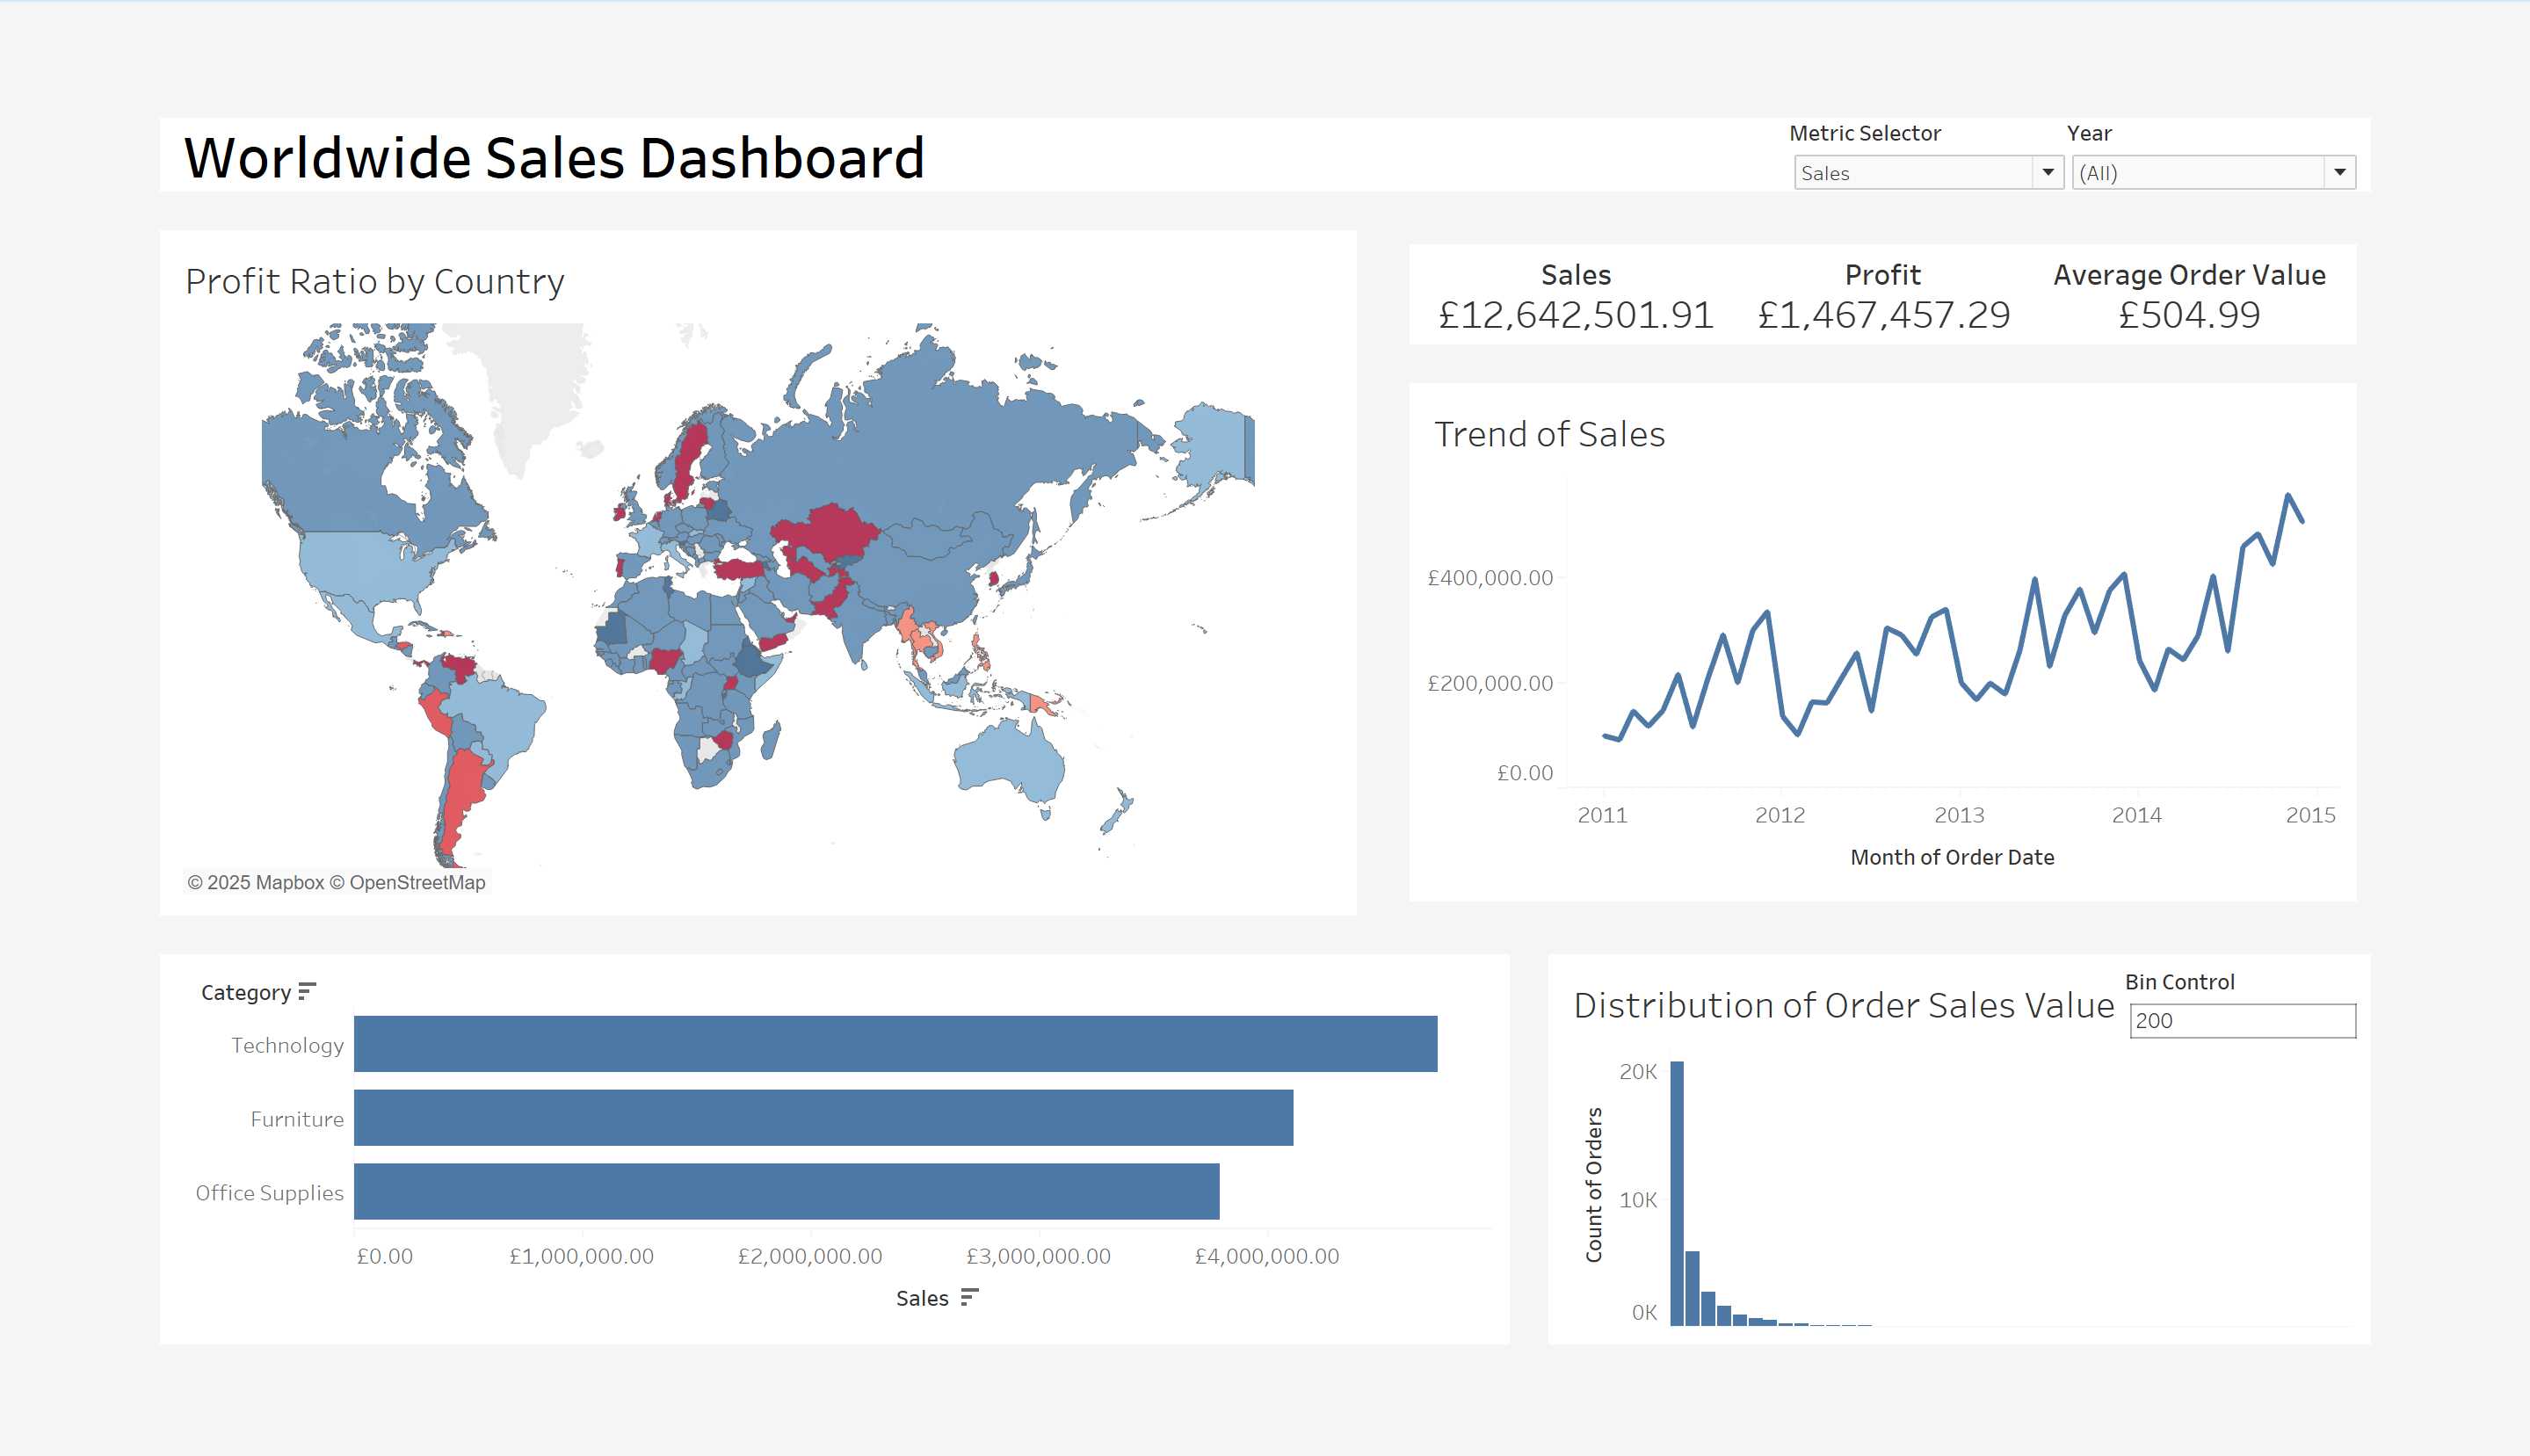

The dashboard page shown, as its layout file describes it:
{"tool":"tableau","page":{"name":"Dashboard Final ","canvas":[1280,720],"ordinal":0},"visuals":[{"type":"text","box":[0,0,1280,64]},{"type":"parameter","param":"[Parameters].[Parameter 2]","box":[938,11,160,48]},{"type":"filter","title":"Trend of profit or sales","param":"[federated.0btv2od0czriyw11jt19s1bigyv6].[yr:Order Date:ok]","box":[1096,11,168,49]},{"type":"worksheet","title":"KPIs","mark":"Text","box":[723,64,557,79]},{"type":"worksheet","title":"Profit Ratio by Country","mark":"Automatic","box":[21,85,680,370]},{"type":"worksheet","title":"Profit Ratio by State","mark":"Automatic","box":[701,85,1,370]},{"type":"worksheet","title":"Trend of profit or sales","mark":"Automatic","rows":["Calculation_1125967248420864"],"cols":["Order Date"],"box":[723,143,557,333]},{"type":"worksheet","title":"Profit and Sales by Category","mark":"Automatic","rows":["Category"],"cols":["Calculation_1125967248420864"],"box":[0,476,790,244]},{"type":"worksheet","title":"Distribution of Order Metric Value","mark":"Automatic","rows":["Order ID"],"cols":["Selected Metric (bin)"],"box":[790,476,490,244]},{"type":"parameter","param":"[Parameters].[Parameter 1]","box":[1129,494,135,44]}]}

Visuals, with their boxes in screenshot pixels (x1, y1, x2, y2), scaled from the page's 1280x720 canvas onto the 2530x1456 screenshot:
text: [0,0,2529,129]
parameter: [1854,22,2171,120]
"Trend of profit or sales" filter: [2166,22,2498,121]
"KPIs" worksheet (Text marks): [1429,129,2529,289]
"Profit Ratio by Country" worksheet: [41,172,1386,920]
"Profit Ratio by State" worksheet: [1386,172,1388,920]
"Trend of profit or sales" worksheet: [1429,289,2529,962]
"Profit and Sales by Category" worksheet: [0,962,1562,1455]
"Distribution of Order Metric Value" worksheet: [1562,962,2529,1455]
parameter: [2231,999,2498,1088]
